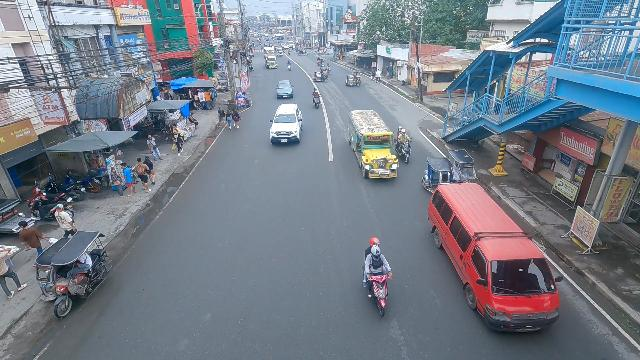car: (267, 102, 303, 146), (275, 80, 294, 99)
jeepney: (263, 54, 278, 70), (263, 46, 275, 57)
motorcycle: (359, 232, 394, 317), (395, 130, 411, 165), (311, 88, 320, 108), (247, 61, 253, 72), (317, 57, 322, 66), (287, 61, 291, 71)
van: (430, 183, 562, 337)
